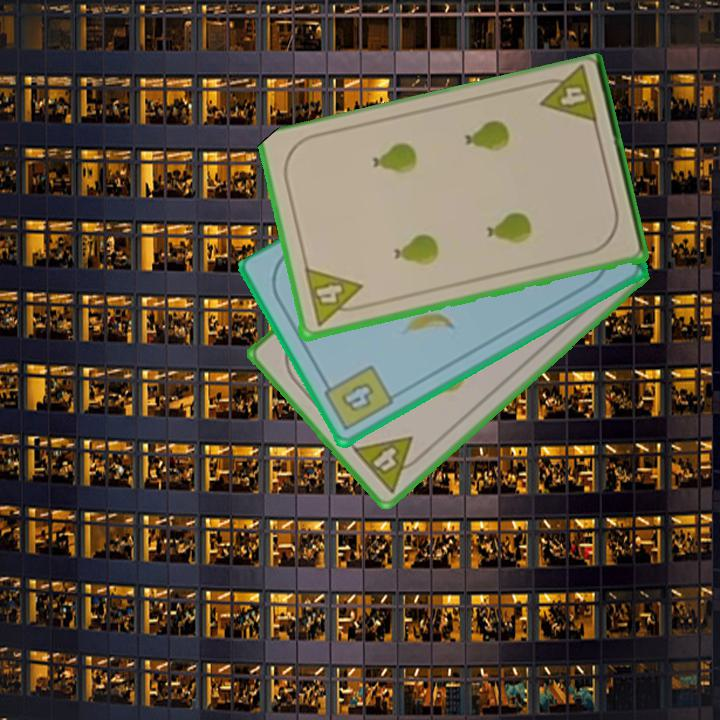4b: (318, 361, 397, 434)
4p: (349, 432, 429, 497), (531, 65, 600, 130), (301, 265, 368, 330)
